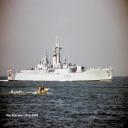Fragata: (6, 31, 115, 83)
